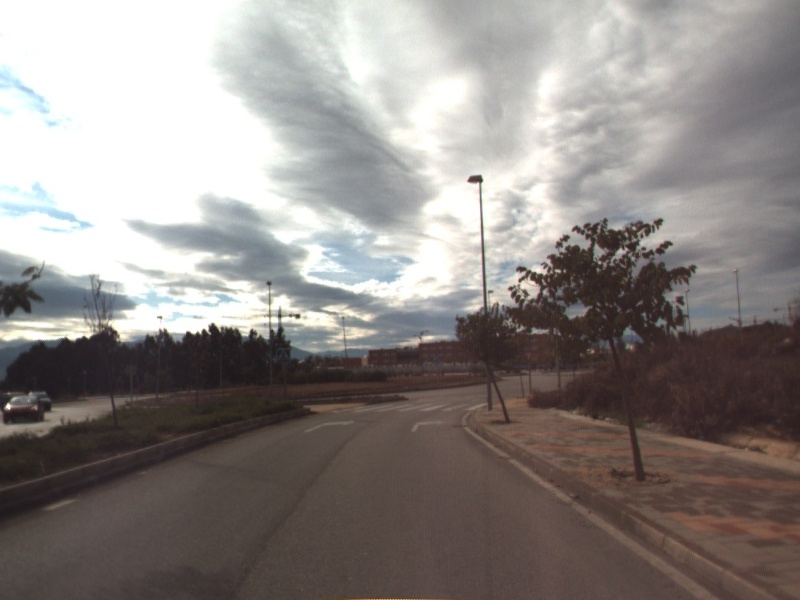RIGHT: (302, 417, 358, 434), (409, 417, 448, 434)
